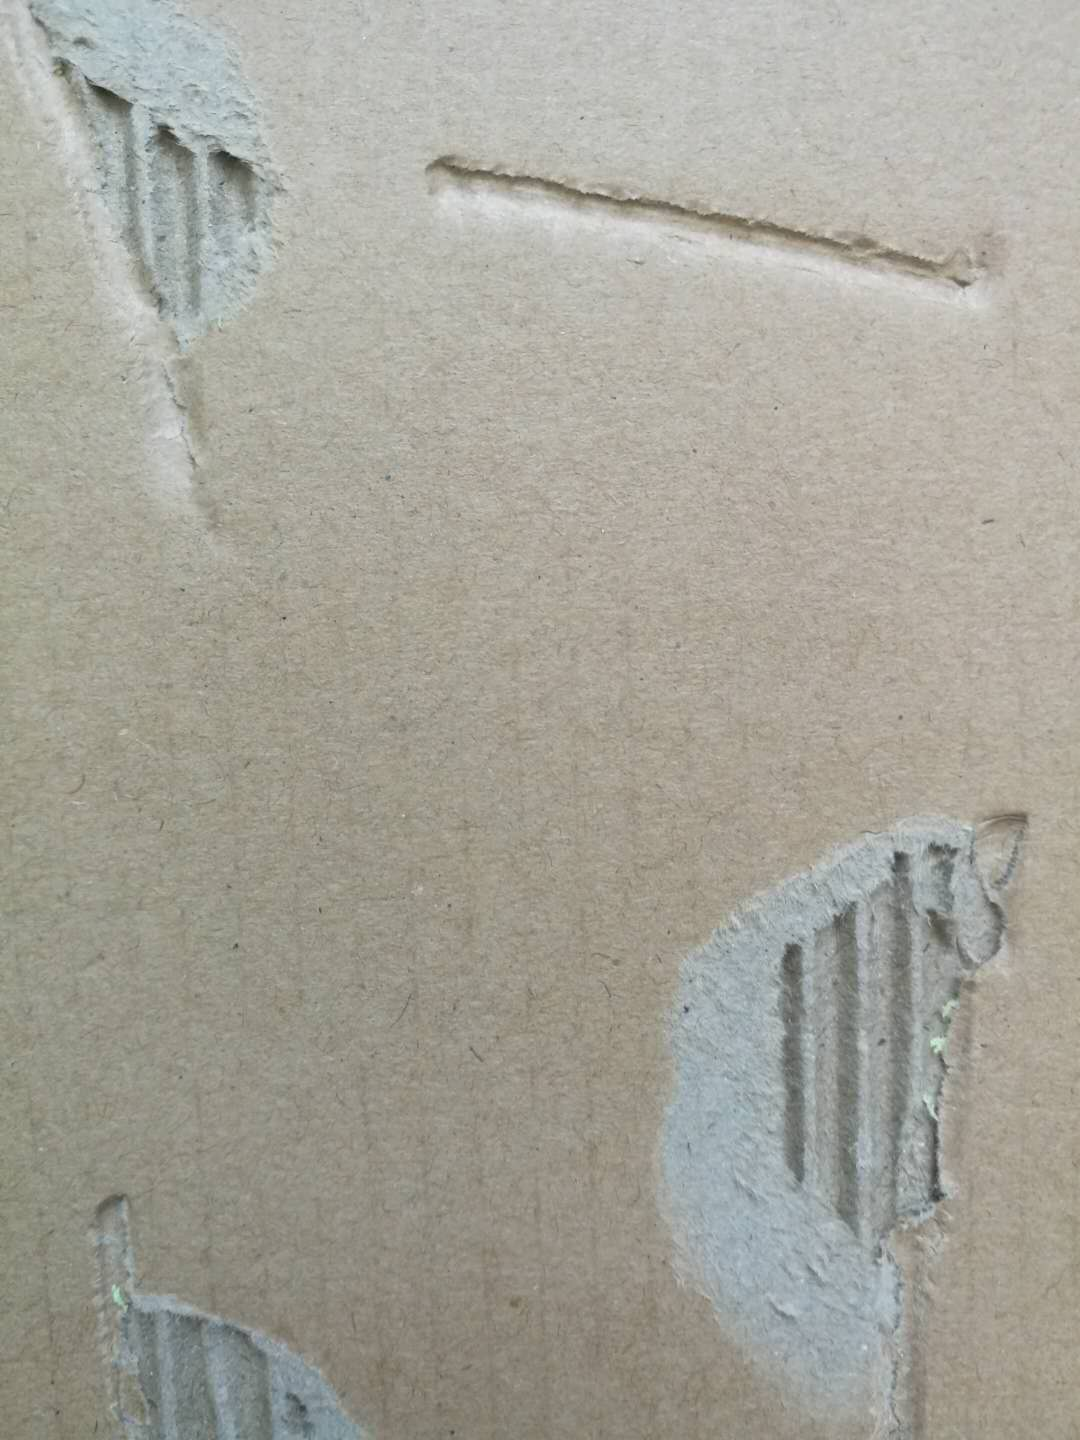defect: (623, 773, 1078, 1440), (2, 1, 320, 568), (405, 112, 1043, 348), (29, 1164, 408, 1440)
